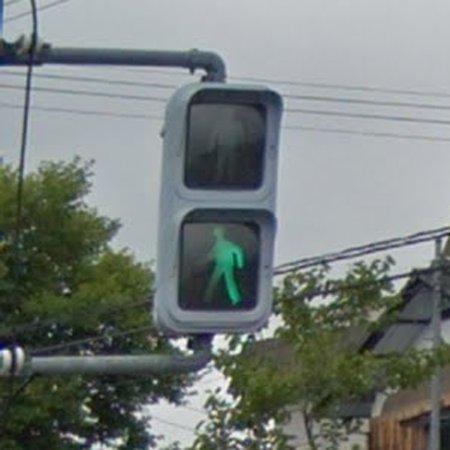traffic lights: (155, 83, 283, 334)
